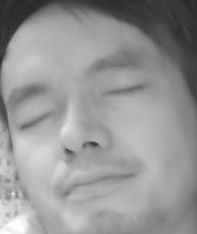blink: (100, 79, 142, 99), (19, 111, 60, 131)
mouth: (58, 164, 135, 204)
